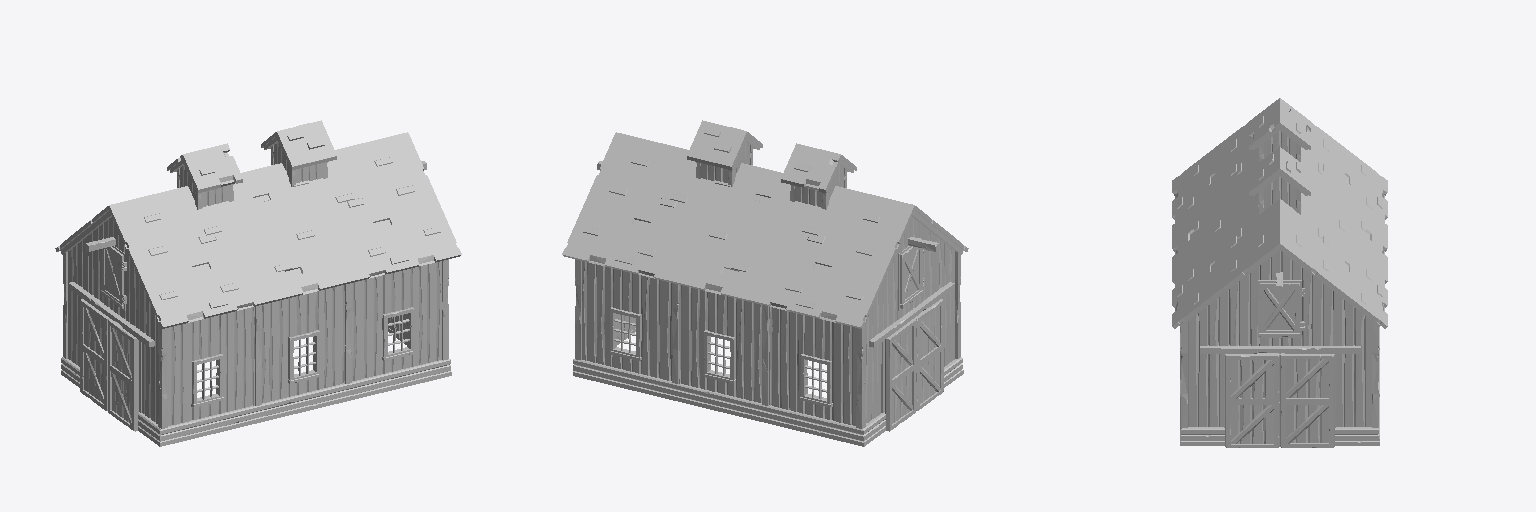
File: SM_Bld_Barn_02.obj
3 views of the same model, side by side, from view 1: azimuth 30°, elevation 25°; view 2: azimuth 150°, elevation 25°; view 3: azimuth 270°, elevation 25° (orthographic).
Size of the model in its own units: 1349 by 911 by 744.